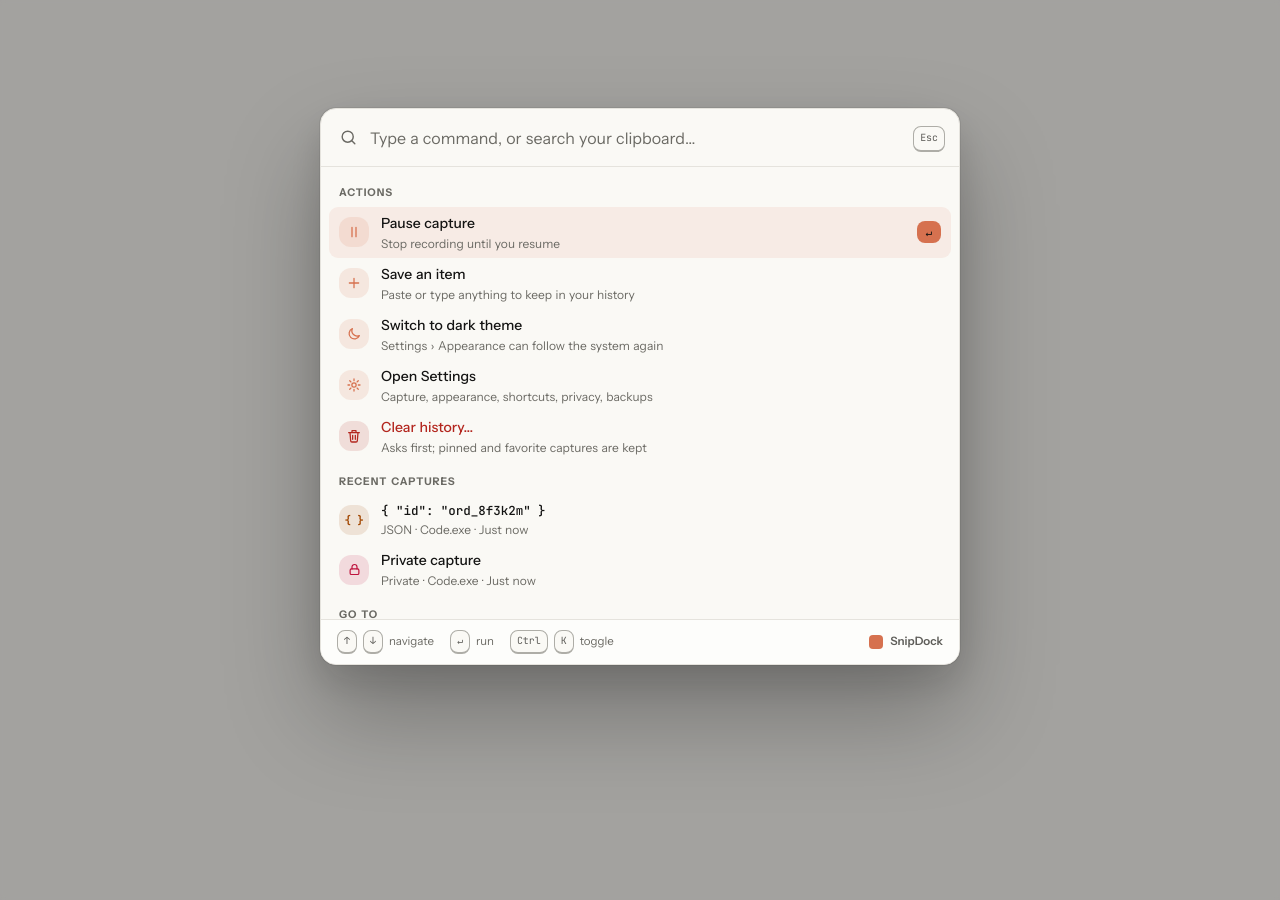
Test: CommandPalette › copies a recent capture and says so
Click the option "{ } { \"id\": \"ord_8f3k2m\" } JSON · Code.exe · Just now" at coordinates (442, 520), box [339,502,546,537]
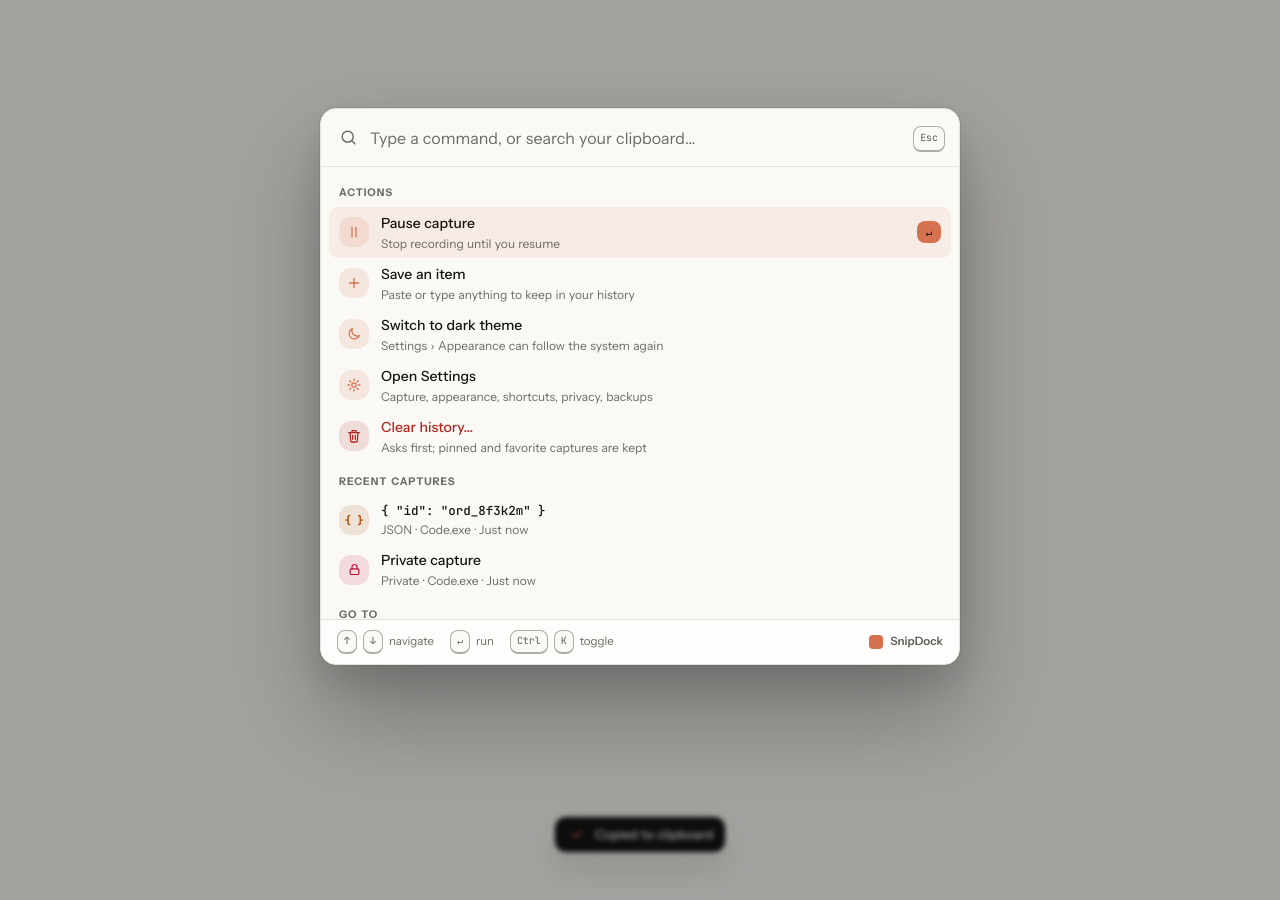
Now the message reads "Copied to clipboard", box [595,827,713,842]
